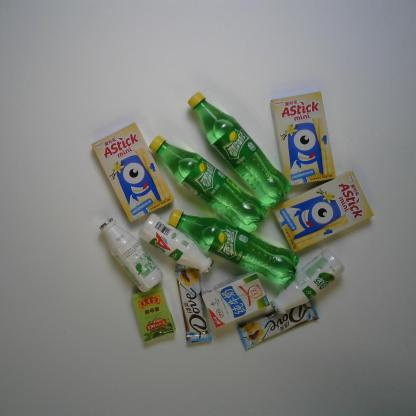Candy: (130, 284, 176, 343)
Chocolate: (236, 299, 320, 350), (174, 264, 214, 344)
Dessert: (272, 169, 375, 254), (90, 122, 174, 225), (269, 90, 336, 186)
Drink: (186, 91, 292, 209), (149, 133, 268, 234), (168, 207, 299, 286)
Milk: (268, 248, 346, 316), (98, 216, 164, 293), (137, 212, 215, 276), (200, 270, 270, 330)
